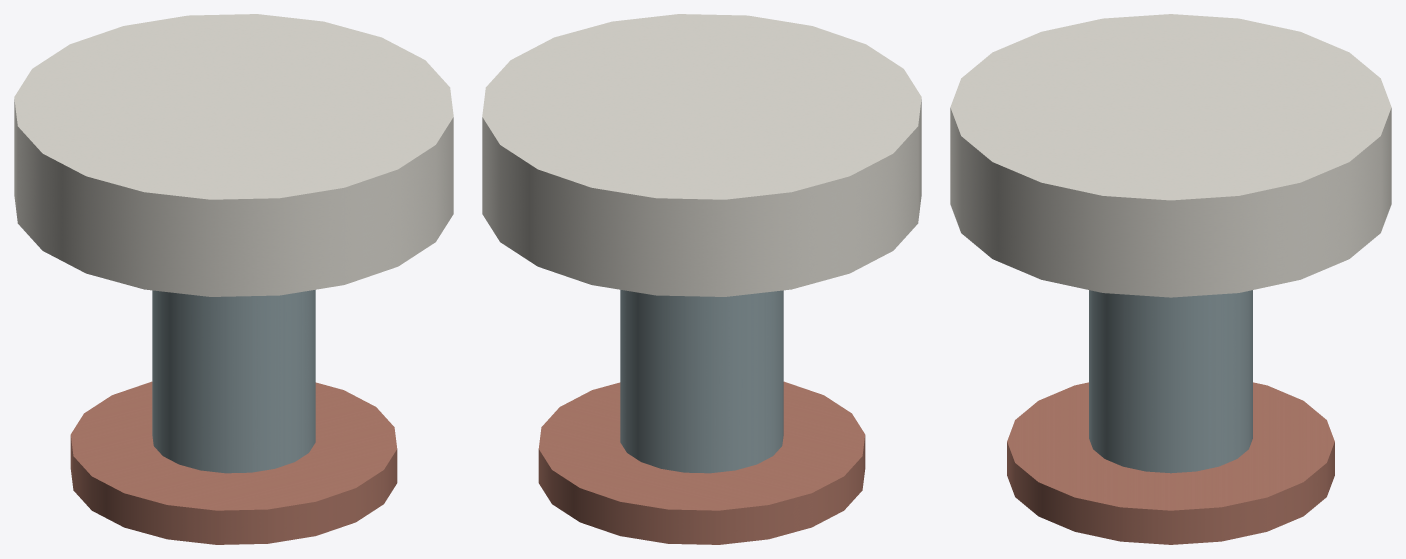
The model's file is sprinkler.glb.
3 renders of one model, left to right at view 1: azimuth 30°, elevation 25°; view 2: azimuth 150°, elevation 25°; view 3: azimuth 270°, elevation 25°, orthographic.
Visible parts, largest first — view 1: sprinkler; view 2: sprinkler; view 3: sprinkler.
Part boxes in pixels (left/top/right/bottom): sprinkler: left=14, top=14, right=453, bottom=544; sprinkler: left=482, top=14, right=921, bottom=544; sprinkler: left=950, top=14, right=1391, bottom=544.
Bounding box in the file's own units: 0.07 × 0.0645 × 0.07.
3 materials, 3 textured.
